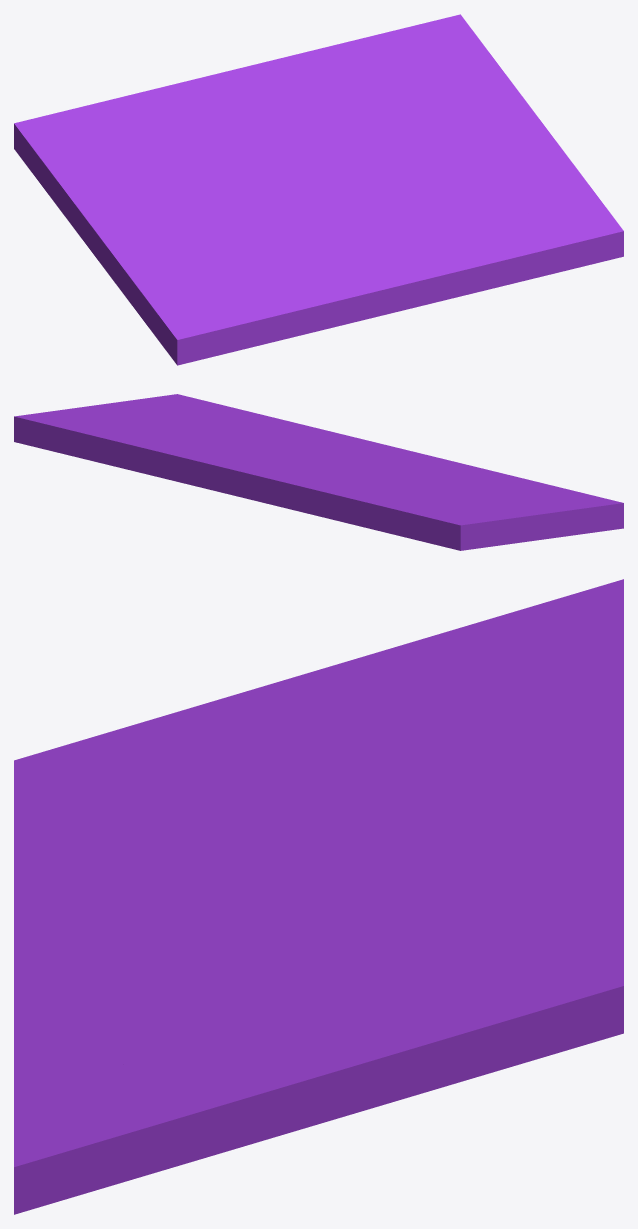
File: Window_135_chunks.fbx
The picture shows the model from 3 angles, top to bottom: view 1: azimuth 30°, elevation 25°; view 2: azimuth 150°, elevation 25°; view 3: azimuth 270°, elevation 25°; orthographic projection. The views are drawn at different scales.
Parts seen in each view (by area): view 1: Window_135_0, Window_135_2, Window_135_3, Window_135_5, Window_135_1, Window_135_6, Window_135_4; view 2: Window_135_0, Window_135_2, Window_135_5, Window_135_6, Window_135_1, Window_135_3, Window_135_4; view 3: Window_135_2, Window_135_0, Window_135_1, Window_135_5, Window_135_6, Window_135_3, Window_135_4.
Boxes of the visible parts, x1,y1,x2,y2 form: Window_135_0: (14,80,313,365); Window_135_2: (192,14,563,180); Window_135_3: (318,234,571,323); Window_135_5: (329,179,610,262); Window_135_1: (394,151,623,273); Window_135_6: (218,179,371,313); Window_135_4: (203,271,348,356); Window_135_0: (270,461,623,550); Window_135_2: (14,402,324,504); Window_135_5: (190,397,354,457); Window_135_6: (316,451,561,491); Window_135_1: (118,394,271,442); Window_135_3: (232,407,482,468); Window_135_4: (429,462,595,496); Window_135_2: (239,741,623,1123); Window_135_0: (14,579,623,868); Window_135_1: (14,944,320,1214); Window_135_5: (14,882,307,1155); Window_135_6: (53,795,316,929); Window_135_3: (14,889,152,1118); Window_135_4: (14,784,86,900).
Bounding box in the file's own units: 1838 × 482 × 1165.
